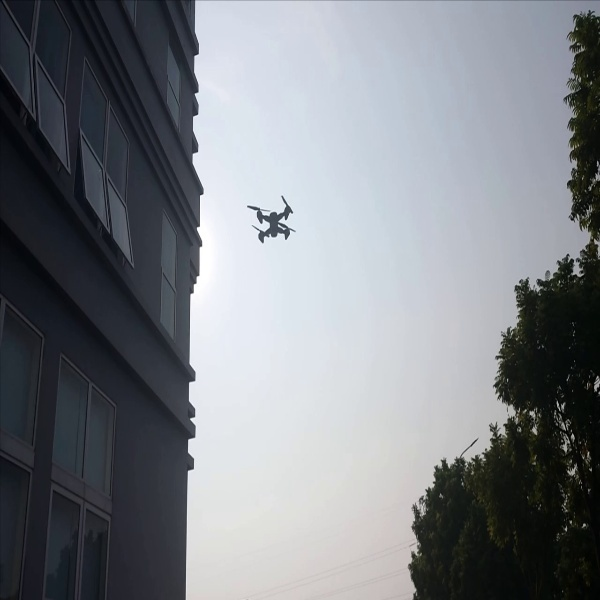drone: (238, 193, 301, 246)
